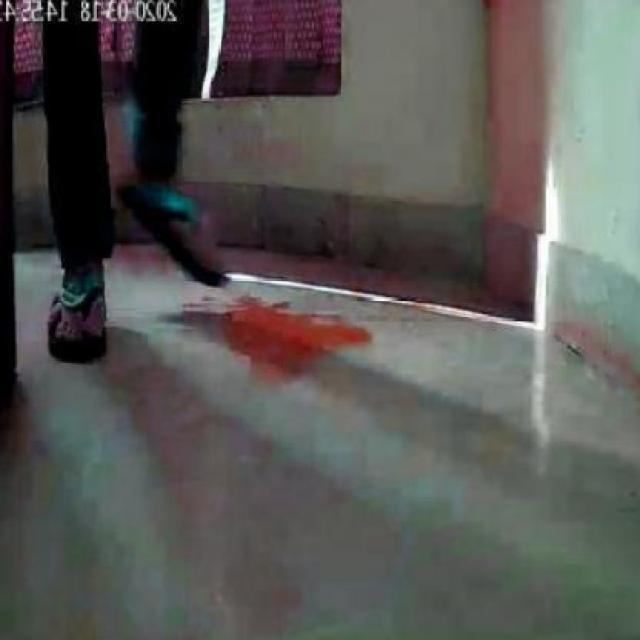spillage: (220, 302, 375, 376)
